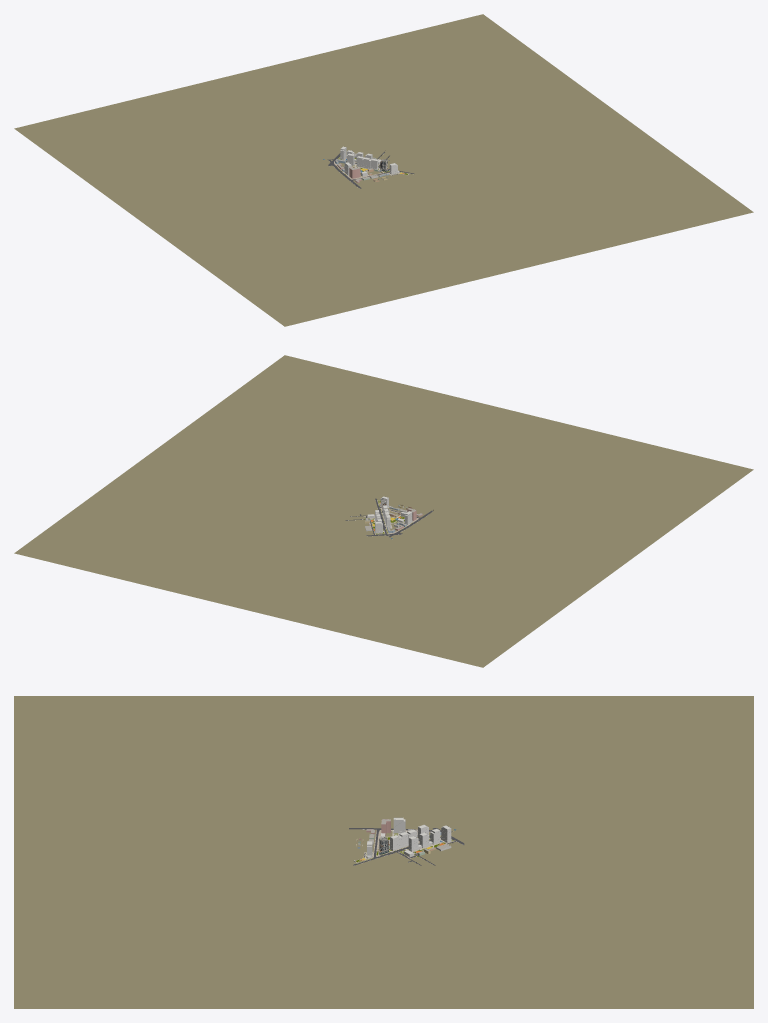
3 views of the same model, one above another, from view 1: azimuth 30°, elevation 25°; view 2: azimuth 150°, elevation 25°; view 3: azimuth 270°, elevation 25° (orthographic). The views are drawn at different scales.
Parts seen in each view (by area): view 1: Ground; view 2: Ground; view 3: Ground, Site props.
Part boxes in pixels (x1,y1,x2,y2): Ground: (14, 14, 753, 326); Ground: (14, 355, 753, 667); Ground: (14, 696, 753, 1008); Site props: (354, 819, 451, 861).
Bounding box in the file's own units: 3200 × 67.53 × 3200.
